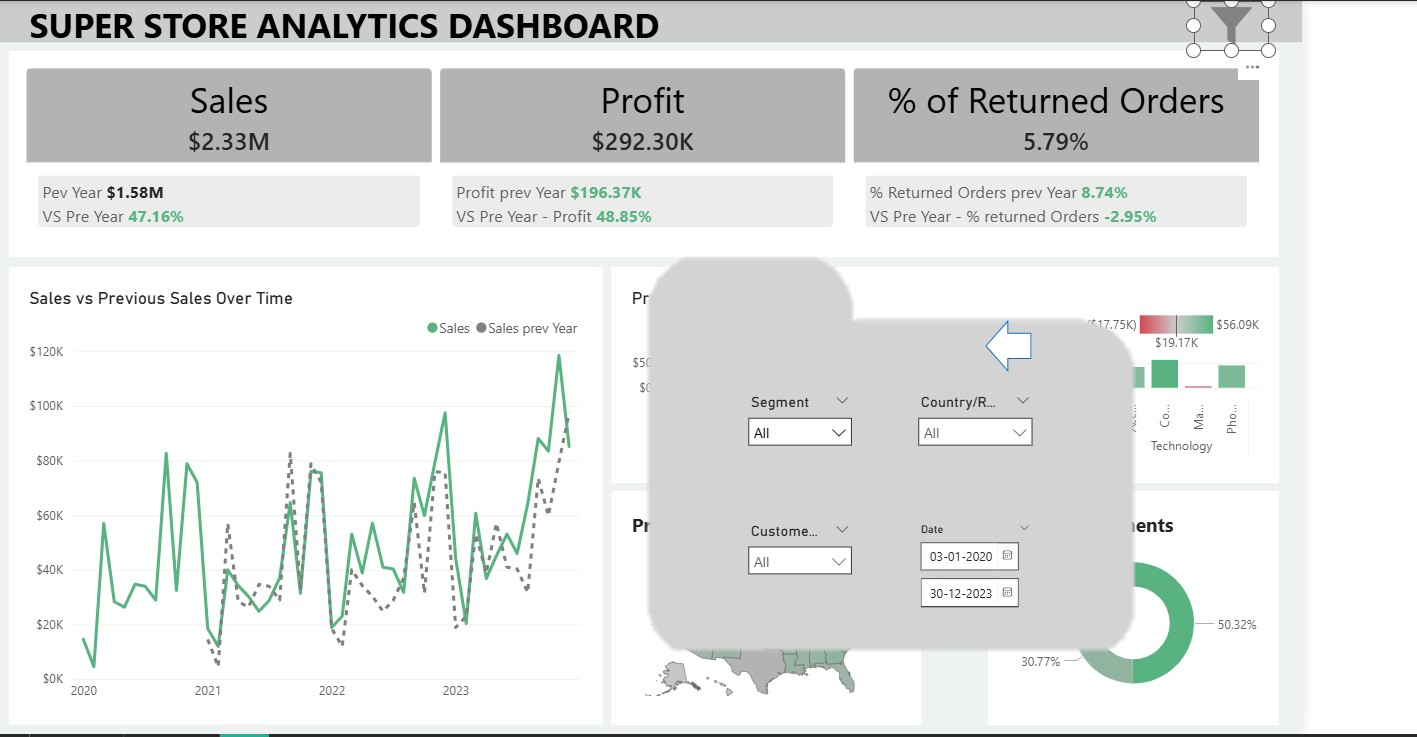

The page's visual inventory and layout, read from the dashboard file:
{"tool":"powerbi","page":{"name":"Page 1","canvas":[1280,720],"ordinal":0},"visuals":[{"type":"image","title":"Filter","box":[1172.8,0,73.6,49.1],"z":0,"group":"g1"},{"type":"cardVisual","fields":{"Data":["Measures..Sales","Measures..PROFIT","Measures..% of Returned Orders"]},"box":[9.8,49.1,1246.6,202.5],"z":0},{"type":"shape","box":[0,0,1279.8,40.5],"z":1000},{"type":"lineChart","title":"Sales vs Previous Sales Over Time","fields":{"Category":["Date Table.Start of month"],"Y":["Measures..Sales","Measures..Sales prev Year"]},"box":[9.8,261.4,582.8,449.1],"z":2000},{"type":"columnChart","title":"Profit By Products","fields":{"Category":["Orders.Category","Orders.Sub-Category"],"Y":["Measures..Profit"]},"box":[601.2,261.4,655.2,212.3],"z":3000},{"type":"shapeMap","title":"Profit By States","fields":{"Value":["Measures..Profit"],"Category":["Orders.State/Province"]},"box":[601.2,481,304.3,229.4],"z":4000},{"type":"donutChart","title":"Sales by Segments","fields":{"Y":["Measures..Sales"],"Category":["Orders.Segment"]},"box":[970.6,481,285.9,229.4],"z":5000},{"type":"group","id":"g1","title":"Slicer Pane","box":[471.2,0,808.8,686.7],"z":6000}]}

Visuals, with their boxes on the page's 1280x720 design canvas (x1, y1, x2, y2). These are canvas units, not pixel positions in the 1417x737 screenshot, which may show the page scaled, cropped or inside an application window:
"Filter" image: 1173/0/1246/49
cardVisual - Measures..Sales x Measures..PROFIT: 10/49/1256/252
shape: 0/0/1280/40
"Sales vs Previous Sales Over Time" lineChart: 10/261/593/710
"Profit By Products" columnChart: 601/261/1256/474
"Profit By States" shapeMap: 601/481/906/710
"Sales by Segments" donutChart: 971/481/1256/710
"Slicer Pane" group: 471/0/1280/687
